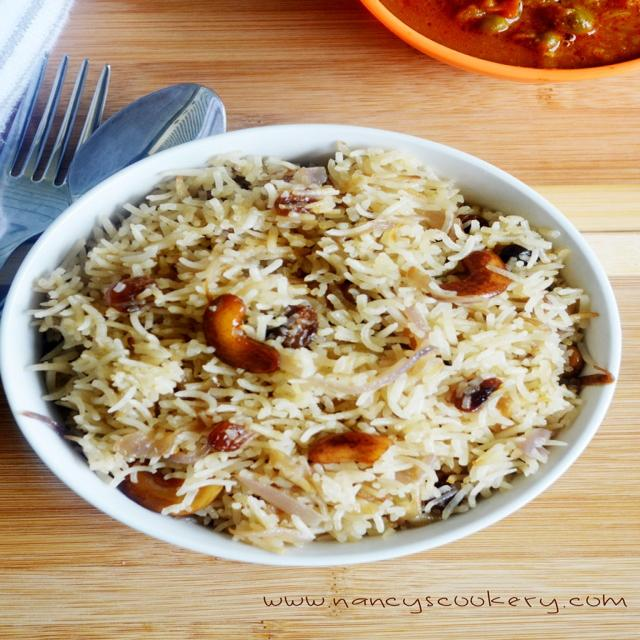nei satham: (52, 136, 585, 535)
